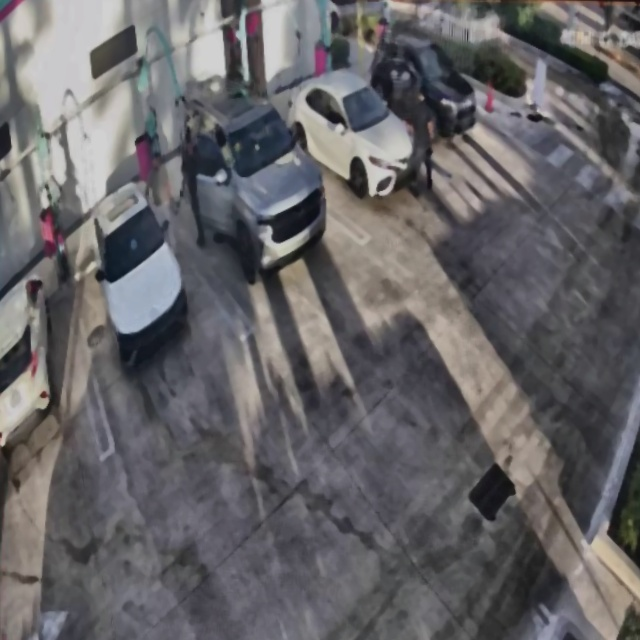Car: (178, 77, 327, 282), (88, 184, 188, 372), (288, 70, 417, 197)
